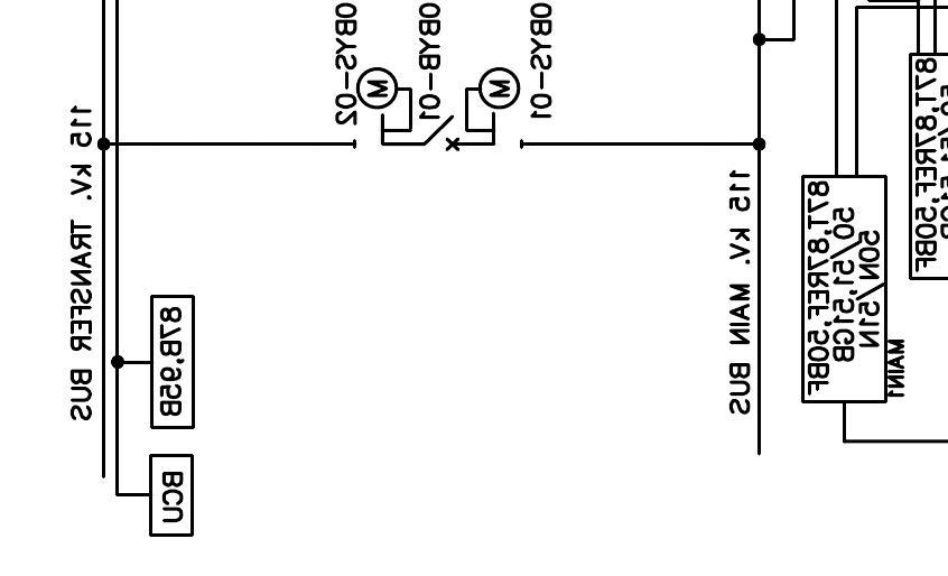115_1way_ds_w_motor: (352, 66, 413, 149), (465, 66, 524, 150)
115_breaker: (423, 115, 460, 152)
BCU: (148, 453, 195, 538)
